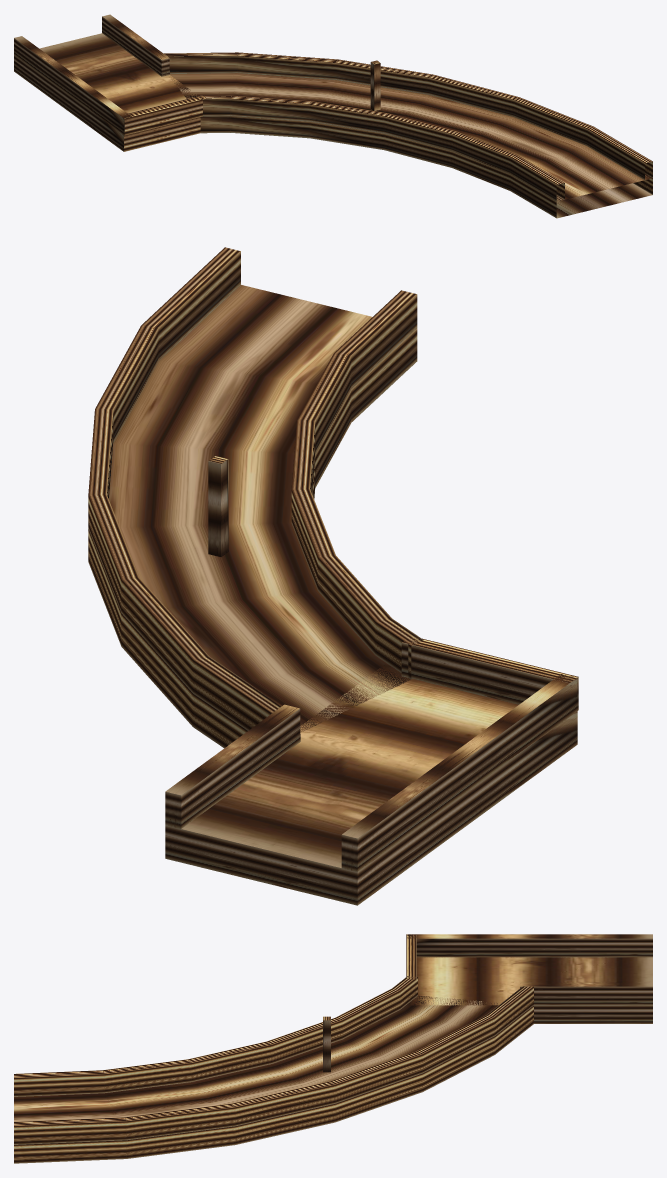
File: I - Window Begin.obj
3 renders of one model, top to bottom at view 1: azimuth 30°, elevation 25°; view 2: azimuth 150°, elevation 25°; view 3: azimuth 270°, elevation 25°, orthographic. The views are drawn at different scales.
Visible parts, largest first — view 1: polySurface12; view 2: polySurface12; view 3: polySurface12.
Boxes of the visible parts, x1,y1,x2,y2 form: polySurface12: (14,14,652,218); polySurface12: (88,247,578,905); polySurface12: (14,934,652,1163).
Bounding box in the file's own units: 1540 × 280 × 2166.
